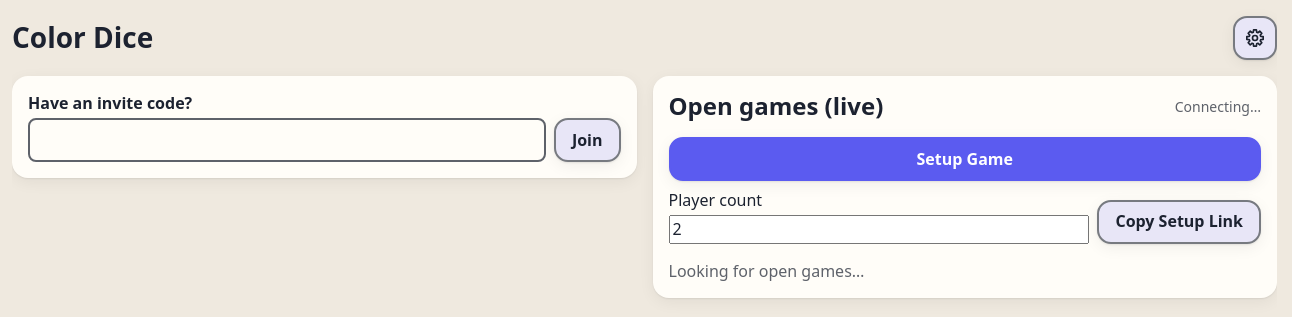
Scenario: Home › filters the invite code and opens the join route
Later steps or results of the test are not shown.
Type "k7-q f2x" into the field labelled "Have an invite code?" at coordinates (287, 140), box [28,118,546,162]
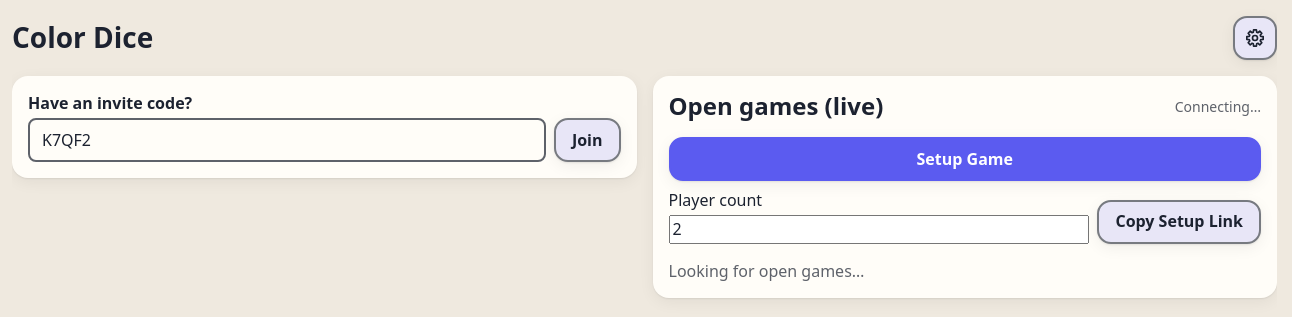
expect the field labelled "Have an invite code?" holds "K7QF2": met, box [28,118,546,162]
